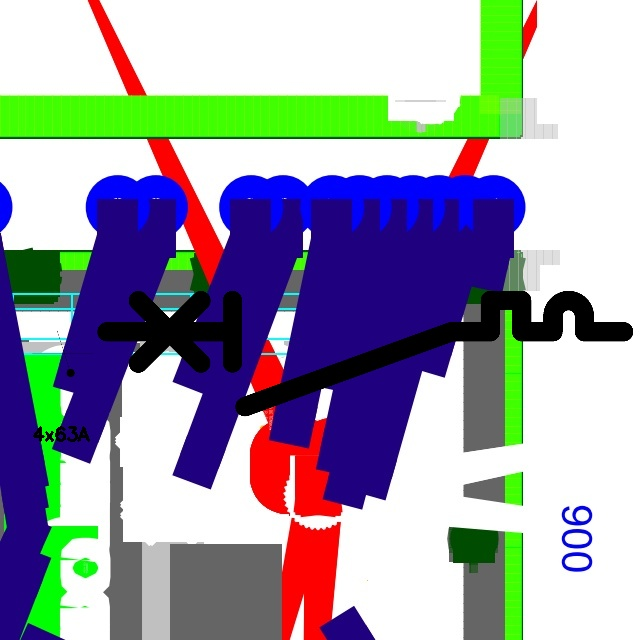interruptor_termomagnetico: (93, 287, 637, 420)
